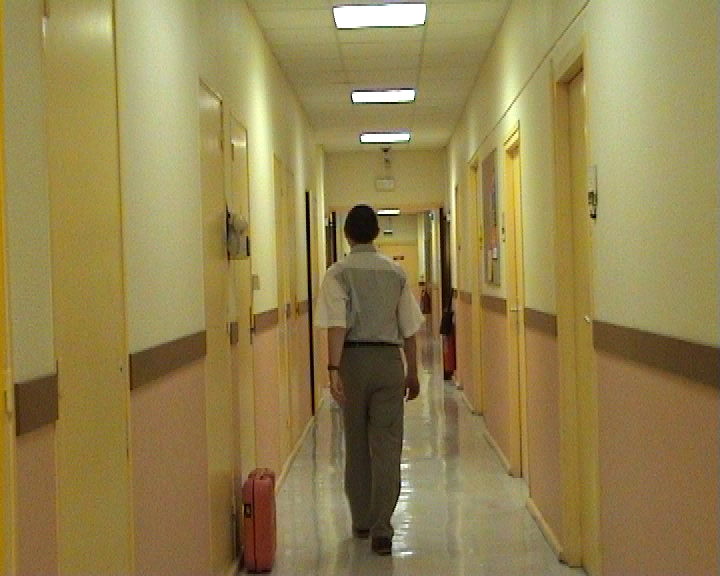leave bag unattended: (220, 450, 299, 576)
